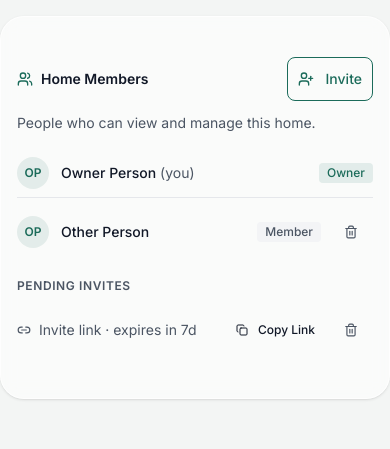
Scenario: HomeMembersSection — failures must be visible, not silent › create invite fails → shows the error and adds no invite row
Expected: the text "Owner Person" is shown, [61,164,156,181]
Click the button "Invite" at point(330, 79), box [286,57,373,101]
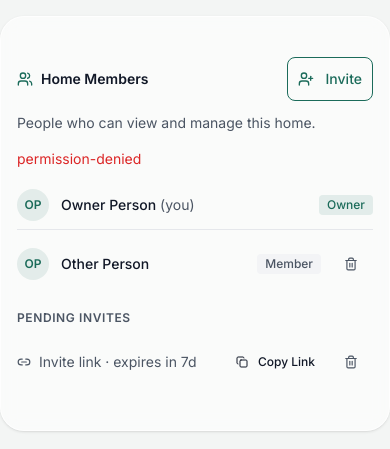
Expected: the number of buttons named "revoke invite" is 1, [329,340,373,384]
Now the message reads "permission-denied", box [17,150,141,167]
